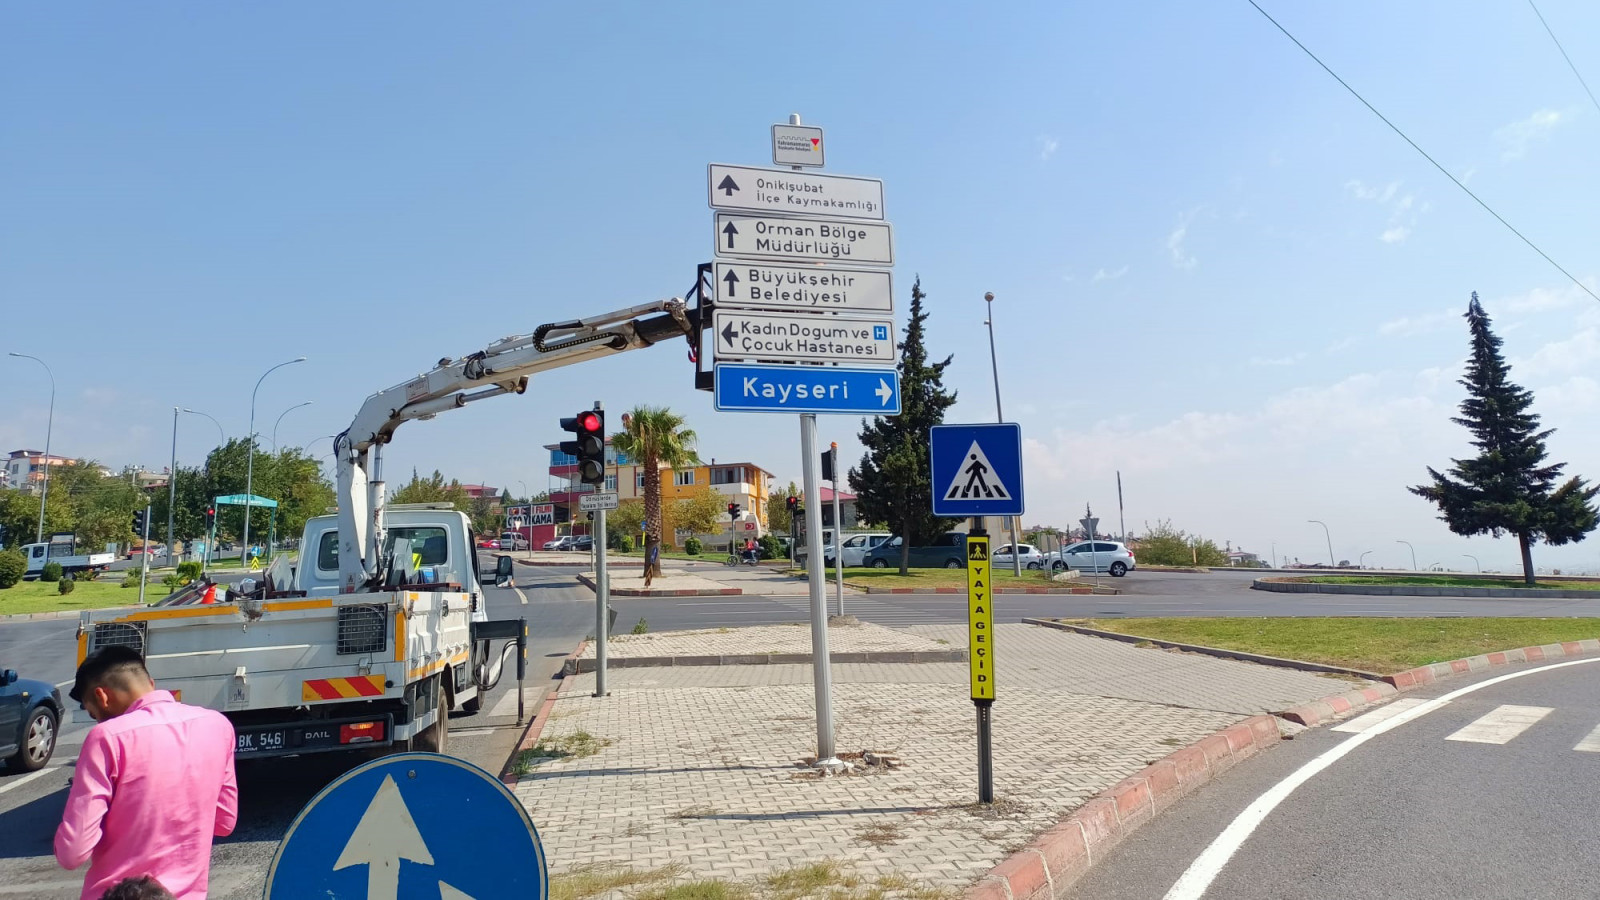otomobil: (1037, 523, 1158, 587), (859, 525, 975, 572)
red_light: (572, 402, 609, 436)
yaya: (34, 648, 235, 899)
yaya_gecidi: (930, 425, 1026, 514)
